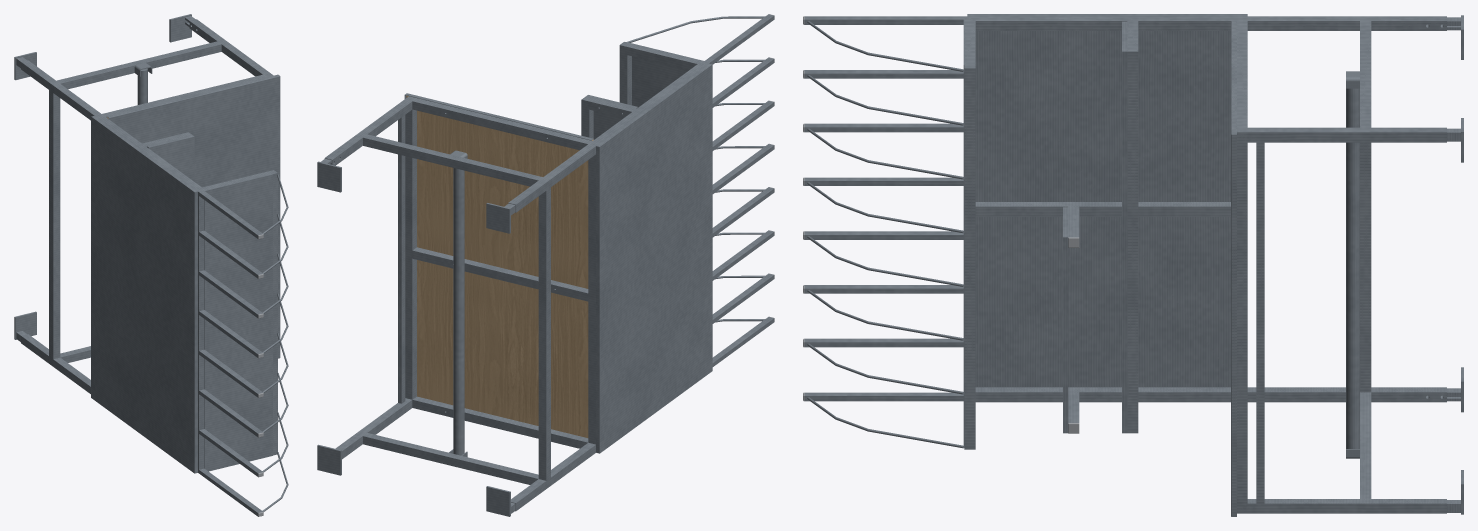
The model's file is mesa-empaquetado-completa-mwstduga.glb.
3 renders of one model, left to right at view 1: azimuth 30°, elevation 25°; view 2: azimuth 150°, elevation 25°; view 3: azimuth 270°, elevation 25°, orthographic. The views are drawn at different scales.
Visible parts, largest first — view 1: trasera, chapa_carton, cuerpo_principal, chapa_galva, estante_largo, Body2, Body8, Body5, Body3, Body4, Body6, Body1 (+4 smaller); view 2: tablero_mesa, trasera, cuerpo_principal, eje_rollo, chapa_carton, Body8, Body3, Body4, Body7, Body5, Body1, Body2 (+7 smaller); view 3: trasera, cuerpo_principal, eje_rollo, chapa_galva, estante_largo, Body2, Body1, Body6, Body8, Body3, Body4, Body7 (+3 smaller).
Part boxes in pixels (<box>): trasera: <box>91,116,197,473</box>; chapa_carton: <box>204,174,272,471</box>; cuerpo_principal: <box>21,19,277,473</box>; chapa_galva: <box>106,74,280,358</box>; estante_largo: <box>147,135,194,181</box>; Body2: <box>199,412,288,476</box>; Body8: <box>199,174,288,238</box>; Body5: <box>199,293,288,357</box>; Body3: <box>199,372,288,436</box>; Body4: <box>199,333,288,397</box>; Body6: <box>199,253,288,317</box>; Body1: <box>199,452,288,516</box>; tablero_mesa: <box>406,95,593,437</box>; trasera: <box>596,63,712,453</box>; cuerpo_principal: <box>324,42,709,511</box>; eje_rollo: <box>453,168,464,455</box>; chapa_carton: <box>630,43,703,107</box>; Body8: <box>626,14,774,64</box>; Body3: <box>712,230,774,280</box>; Body4: <box>712,187,774,237</box>; Body7: <box>712,57,774,107</box>; Body5: <box>712,144,774,193</box>; Body1: <box>712,317,774,366</box>; Body2: <box>712,273,774,323</box>; trasera: <box>967,14,1247,387</box>; cuerpo_principal: <box>964,16,1446,513</box>; eje_rollo: <box>1346,88,1359,448</box>; chapa_galva: <box>1231,21,1236,516</box>; estante_largo: <box>1122,21,1127,433</box>; Body2: <box>804,338,964,394</box>; Body1: <box>804,392,964,448</box>; Body6: <box>804,123,964,179</box>; Body8: <box>804,16,964,71</box>; Body3: <box>804,285,964,340</box>; Body4: <box>804,231,964,286</box>; Body7: <box>804,70,964,125</box>.
Size of the model in its own units: 1.02 by 1.51 by 2.35.
Materials: 4 (4 with a texture image).
